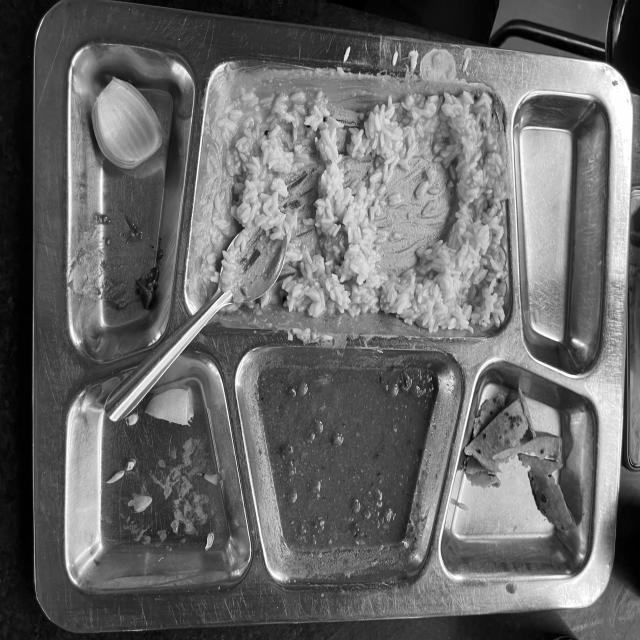50-Food-Left: (51, 38, 605, 585)
